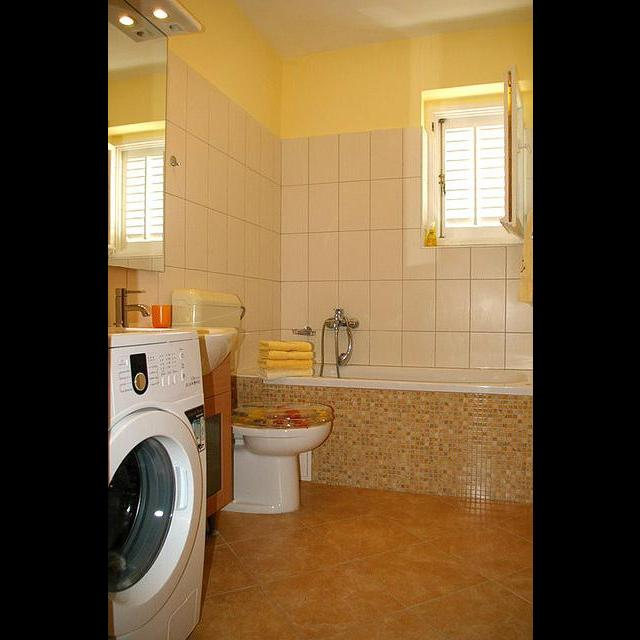Washing-Machine: (108, 326, 206, 640)
